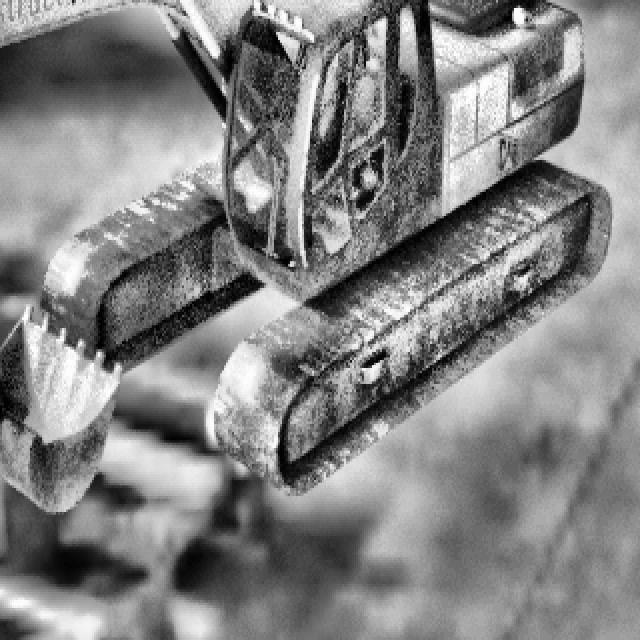excavator: (0, 0, 610, 509)
